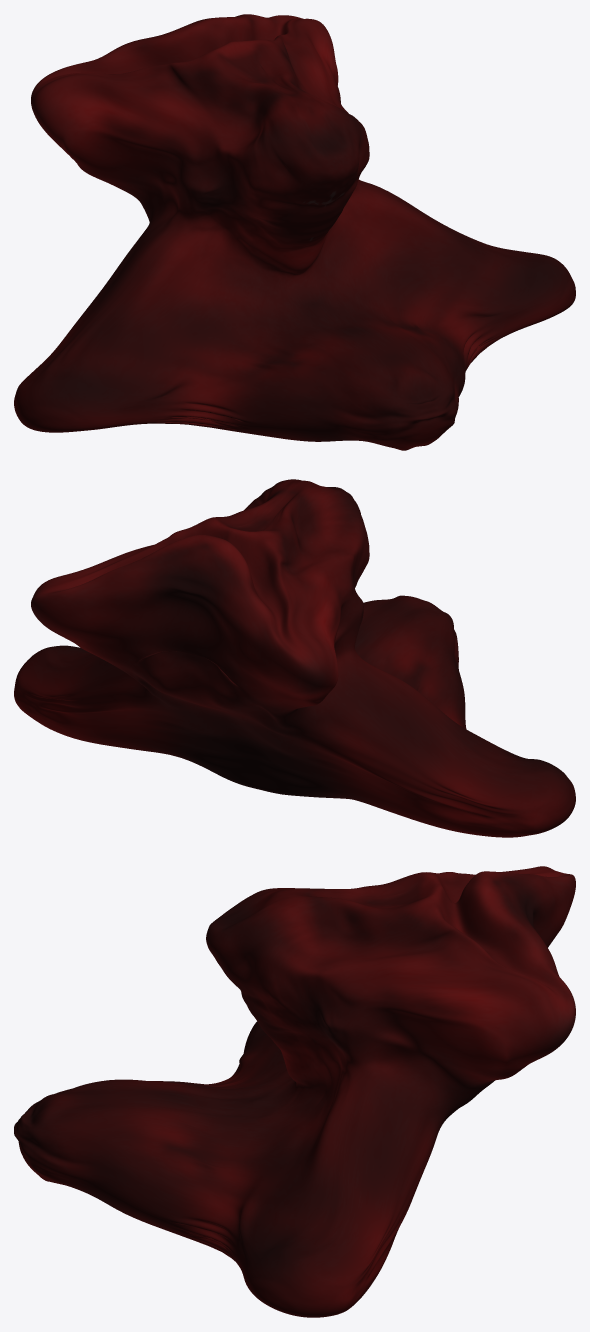
File: alien.glb
3 renders of one model, top to bottom at view 1: azimuth 30°, elevation 25°; view 2: azimuth 150°, elevation 25°; view 3: azimuth 270°, elevation 25°, orthographic. The views are drawn at different scales.
Parts seen in each view (by area): view 1: alien; view 2: alien; view 3: alien.
Part boxes in pixels (x1,y1,x2,y2): alien: [14, 14, 575, 450]; alien: [14, 479, 575, 837]; alien: [14, 866, 575, 1317].
Size of the model in its own units: 1.48 by 0.77 by 1.24.
